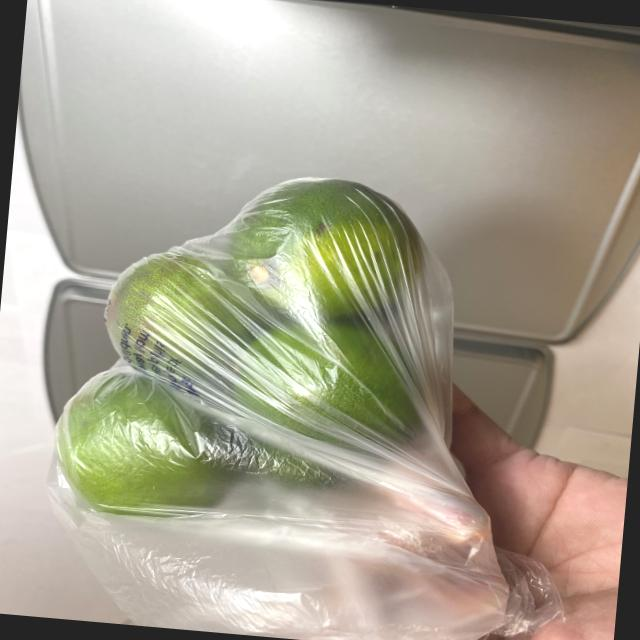lemon: (48, 157, 451, 556)
